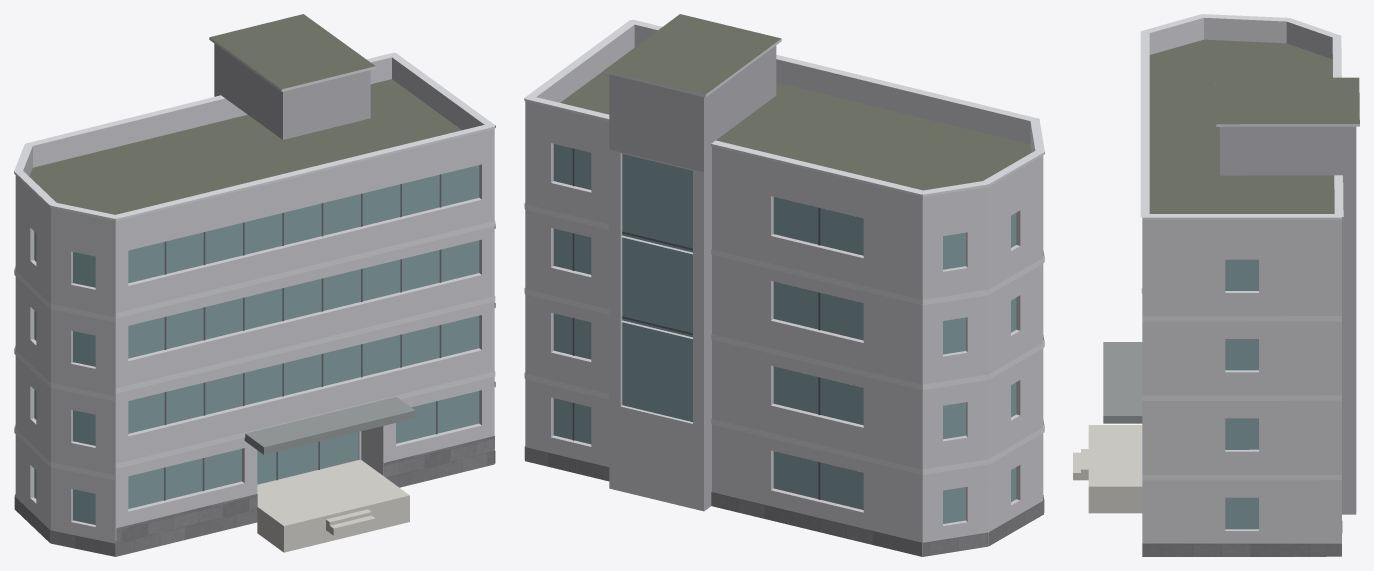
The picture shows the model from 3 angles, left to right: view 1: azimuth 30°, elevation 25°; view 2: azimuth 150°, elevation 25°; view 3: azimuth 270°, elevation 25°; orthographic projection. The views are drawn at different scales.
Visible parts, largest first — view 1: b46__wall, b46__glass, b46__roof, b46__parapet, b46__trim, b46__entranceStair, b46__base, b46__wall2, b46__canopy, b46__frame; view 2: b46__wall, b46__glass, b46__roof, b46__parapet, b46__trim, b46__wall2, b46__base, b46__frame; view 3: b46__wall, b46__roof, b46__wall2, b46__trim, b46__parapet, b46__entranceStair, b46__glass, b46__canopy, b46__base.
Boxes of the visible parts, x1,y1,x2,y2 form: b46__wall: (15, 147, 494, 556); b46__glass: (34, 165, 479, 524); b46__roof: (29, 14, 494, 556); b46__parapet: (15, 57, 494, 239); b46__trim: (14, 37, 495, 480); b46__entranceStair: (257, 460, 409, 552); b46__base: (14, 436, 495, 556); b46__wall2: (214, 43, 370, 139); b46__canopy: (244, 397, 415, 454); b46__frame: (164, 174, 441, 500); b46__wall: (525, 121, 1043, 556); b46__glass: (553, 144, 1016, 523); b46__roof: (560, 14, 1031, 556); b46__parapet: (525, 24, 1043, 217); b46__trim: (524, 19, 1044, 474); b46__wall2: (609, 45, 776, 511); b46__base: (524, 446, 1044, 556); b46__frame: (572, 148, 820, 499); b46__wall: (1142, 239, 1341, 543); b46__roof: (1149, 39, 1359, 556); b46__wall2: (1219, 126, 1356, 514); b46__trim: (1140, 14, 1359, 480); b46__parapet: (1142, 18, 1341, 238); b46__entranceStair: (1073, 425, 1142, 513); b46__glass: (1225, 259, 1258, 529); b46__canopy: (1103, 342, 1142, 423); b46__base: (1142, 521, 1342, 556).
Size of the model in its own units: 19.82 by 18.3 by 11.79.
Materials: 11 (1 with a texture image).
